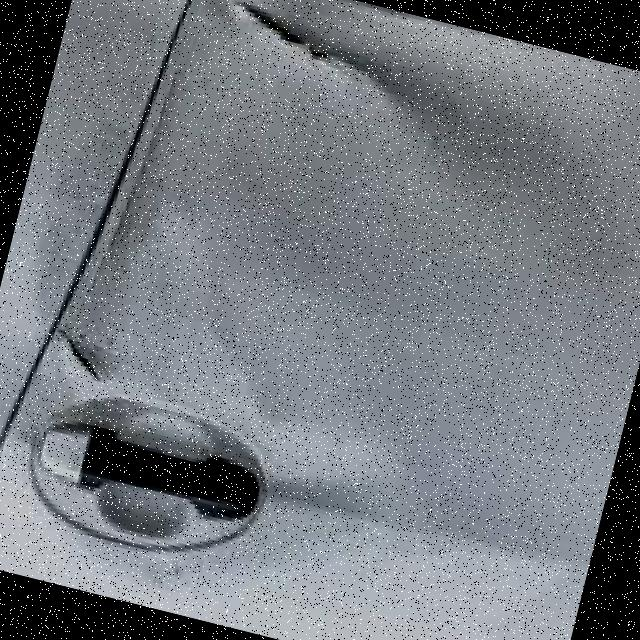Dent: (15, 154, 247, 396), (102, 0, 457, 137), (252, 428, 396, 566)
